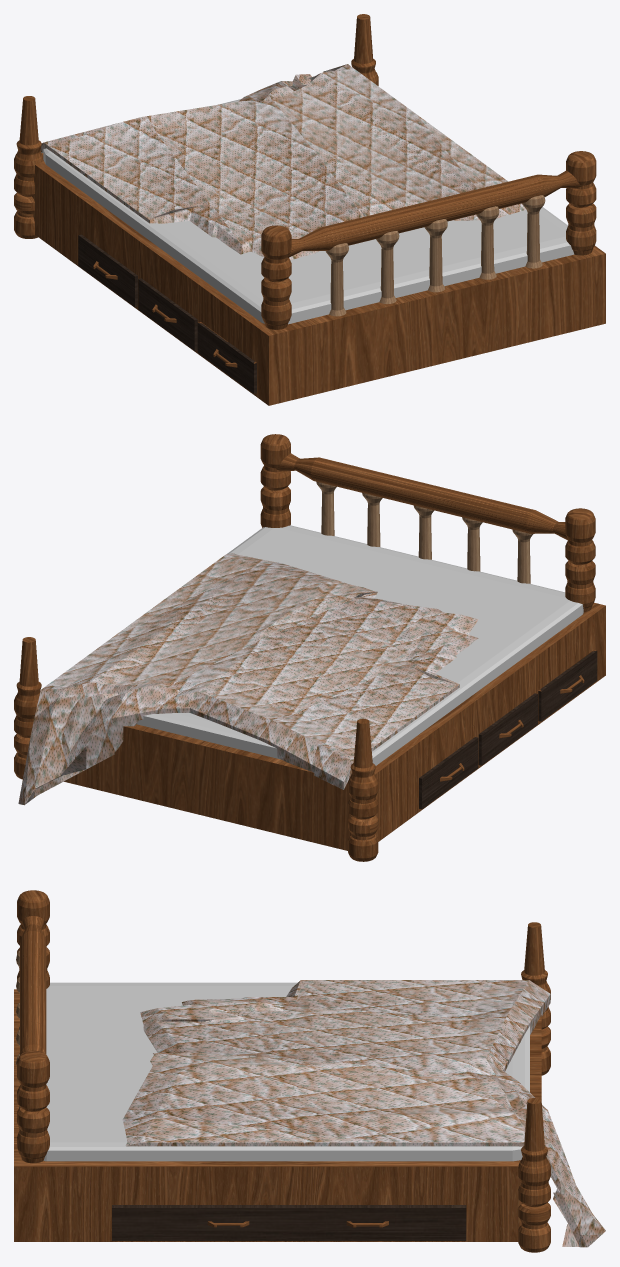
Rendered from bed.fbx.
3 views of the same model, one above another, from view 1: azimuth 30°, elevation 25°; view 2: azimuth 150°, elevation 25°; view 3: azimuth 270°, elevation 25° (orthographic). The views are drawn at different scales.
Parts seen in each view (by area): view 1: Cube.011; view 2: Cube.011; view 3: Cube.011.
Part boxes in pixels (bbox=[...]): Cube.011: bbox=[14, 14, 605, 405]; Cube.011: bbox=[14, 434, 605, 861]; Cube.011: bbox=[14, 890, 605, 1252].
Bounding box in the file's own units: 507 × 240 × 668.
